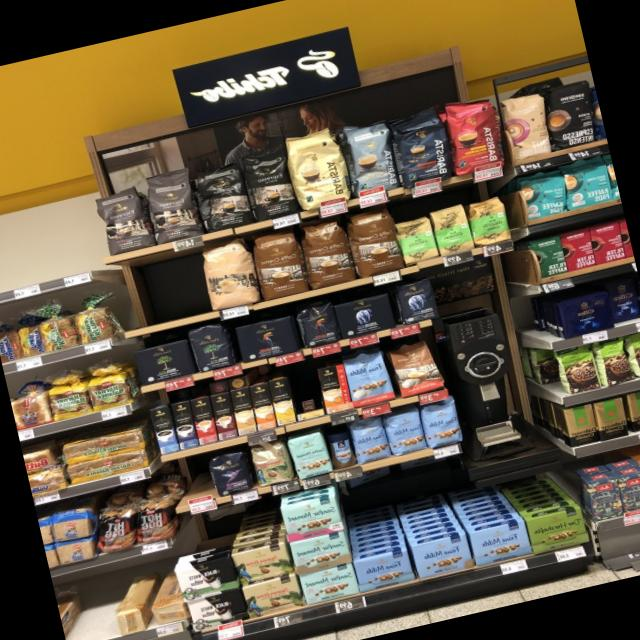AB Bohne: (392, 276, 442, 327)
AB Gemahlen: (333, 292, 398, 341)
Athiopien Bohne: (464, 193, 514, 250)
Athiopien Gemahlen: (428, 202, 475, 258), (394, 212, 441, 266)
BM Bohne: (186, 321, 236, 374)
BM Gemahlen: (130, 337, 197, 388)
BW Gemahlen: (173, 552, 240, 604), (184, 587, 250, 635)
Barista CB: (278, 123, 358, 215)
Barista CC: (338, 117, 402, 201)
Barista Espresso: (382, 106, 457, 194)
Barista Kolumbien: (436, 91, 512, 178)
C Fino Bohne: (207, 448, 256, 498)
CC Mild: (196, 235, 263, 312)
CC Vollmundig 36 Pads: (247, 226, 312, 302), (295, 216, 359, 292), (341, 208, 405, 280)
Colombia BB Bohne: (248, 439, 295, 488)
Colombia BB Gemahlen: (241, 572, 307, 622), (231, 539, 294, 585)
Empty Shelf: (124, 254, 212, 326), (285, 368, 326, 421), (174, 460, 214, 504)
Espresso Aromatisch: (139, 163, 206, 248), (93, 184, 155, 256), (385, 335, 450, 400)
Espresso Kraftig: (235, 144, 301, 224), (191, 162, 255, 234)
FM 36 Pads: (340, 346, 399, 410)
FM Bohne: (380, 404, 430, 458), (344, 414, 394, 466), (418, 396, 466, 448)
FM Gemahlen: (467, 518, 532, 566), (410, 532, 474, 580), (350, 547, 414, 594)
FM Instant: (324, 426, 358, 470)
Herzhatfe Mundig: (524, 505, 590, 555)
LG Bohne: (294, 300, 342, 349)
LG Gemahlen: (232, 314, 300, 364)
SM Bohne: (286, 430, 335, 480)
SM Gemahlen: (287, 529, 353, 577), (280, 493, 342, 542), (299, 562, 362, 606)
Simo CCMild bigpack: (266, 375, 296, 426)
Simo CCVollmundig: (313, 360, 356, 415)
Simo CCVollmundig bigpack: (247, 381, 279, 433)
Simo Decaff: (228, 387, 258, 436)
Simo Es Elegant: (186, 396, 218, 446)
Simo Es Kraft: (208, 390, 240, 442)
Simo Kaffee Kraft: (168, 400, 200, 452)
Simo Kaffee Mild: (149, 404, 178, 456)
